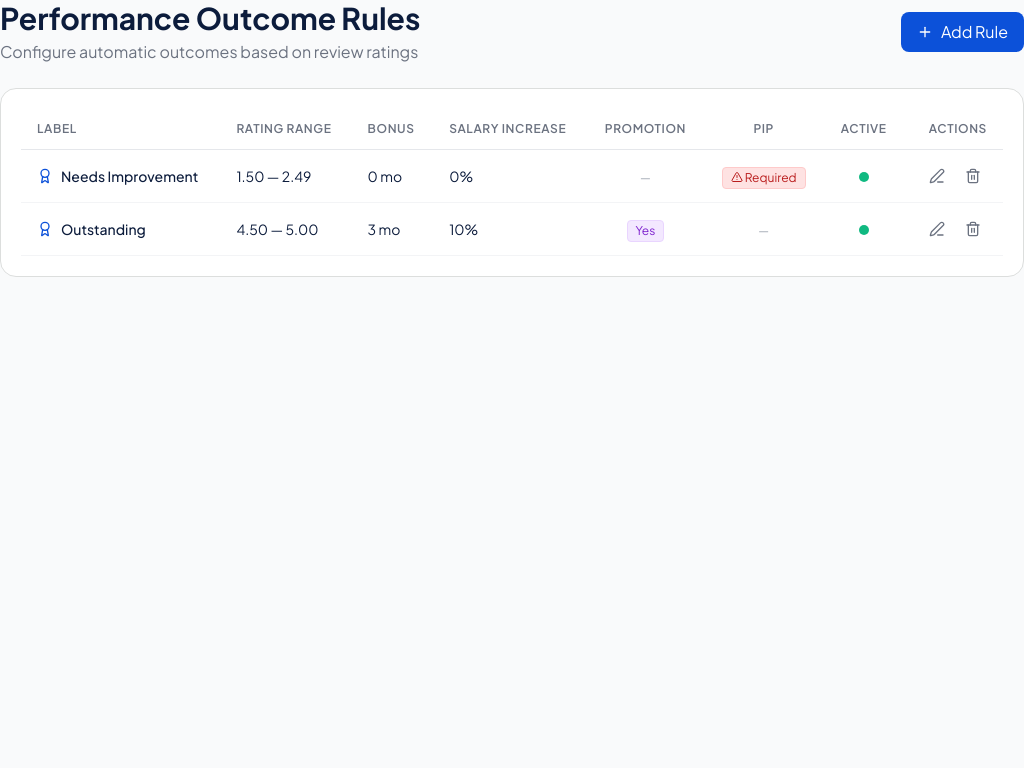
Test: OutcomeRulesSettings smoke › opens edit modal on edit button click
This screenshot has width=1024, height=768.
Click the button named "Edit rule" in the row of "Outstanding" at (937, 229), box x1=923 y1=215 x2=951 y2=243
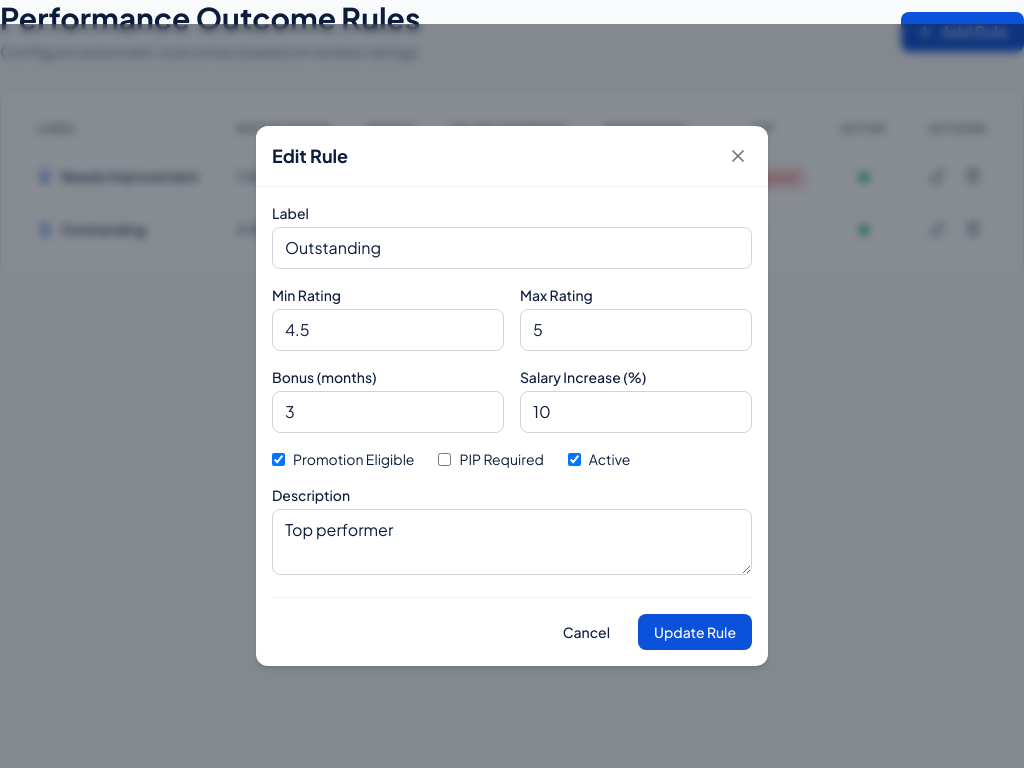
Now the text "Edit Rule" is shown, box x1=272 y1=142 x2=348 y2=170
